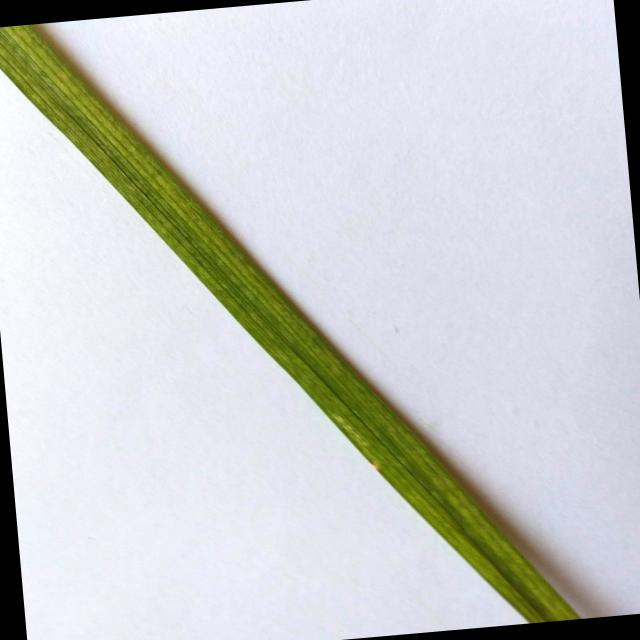Rice_Healthy: (0, 24, 579, 623)
